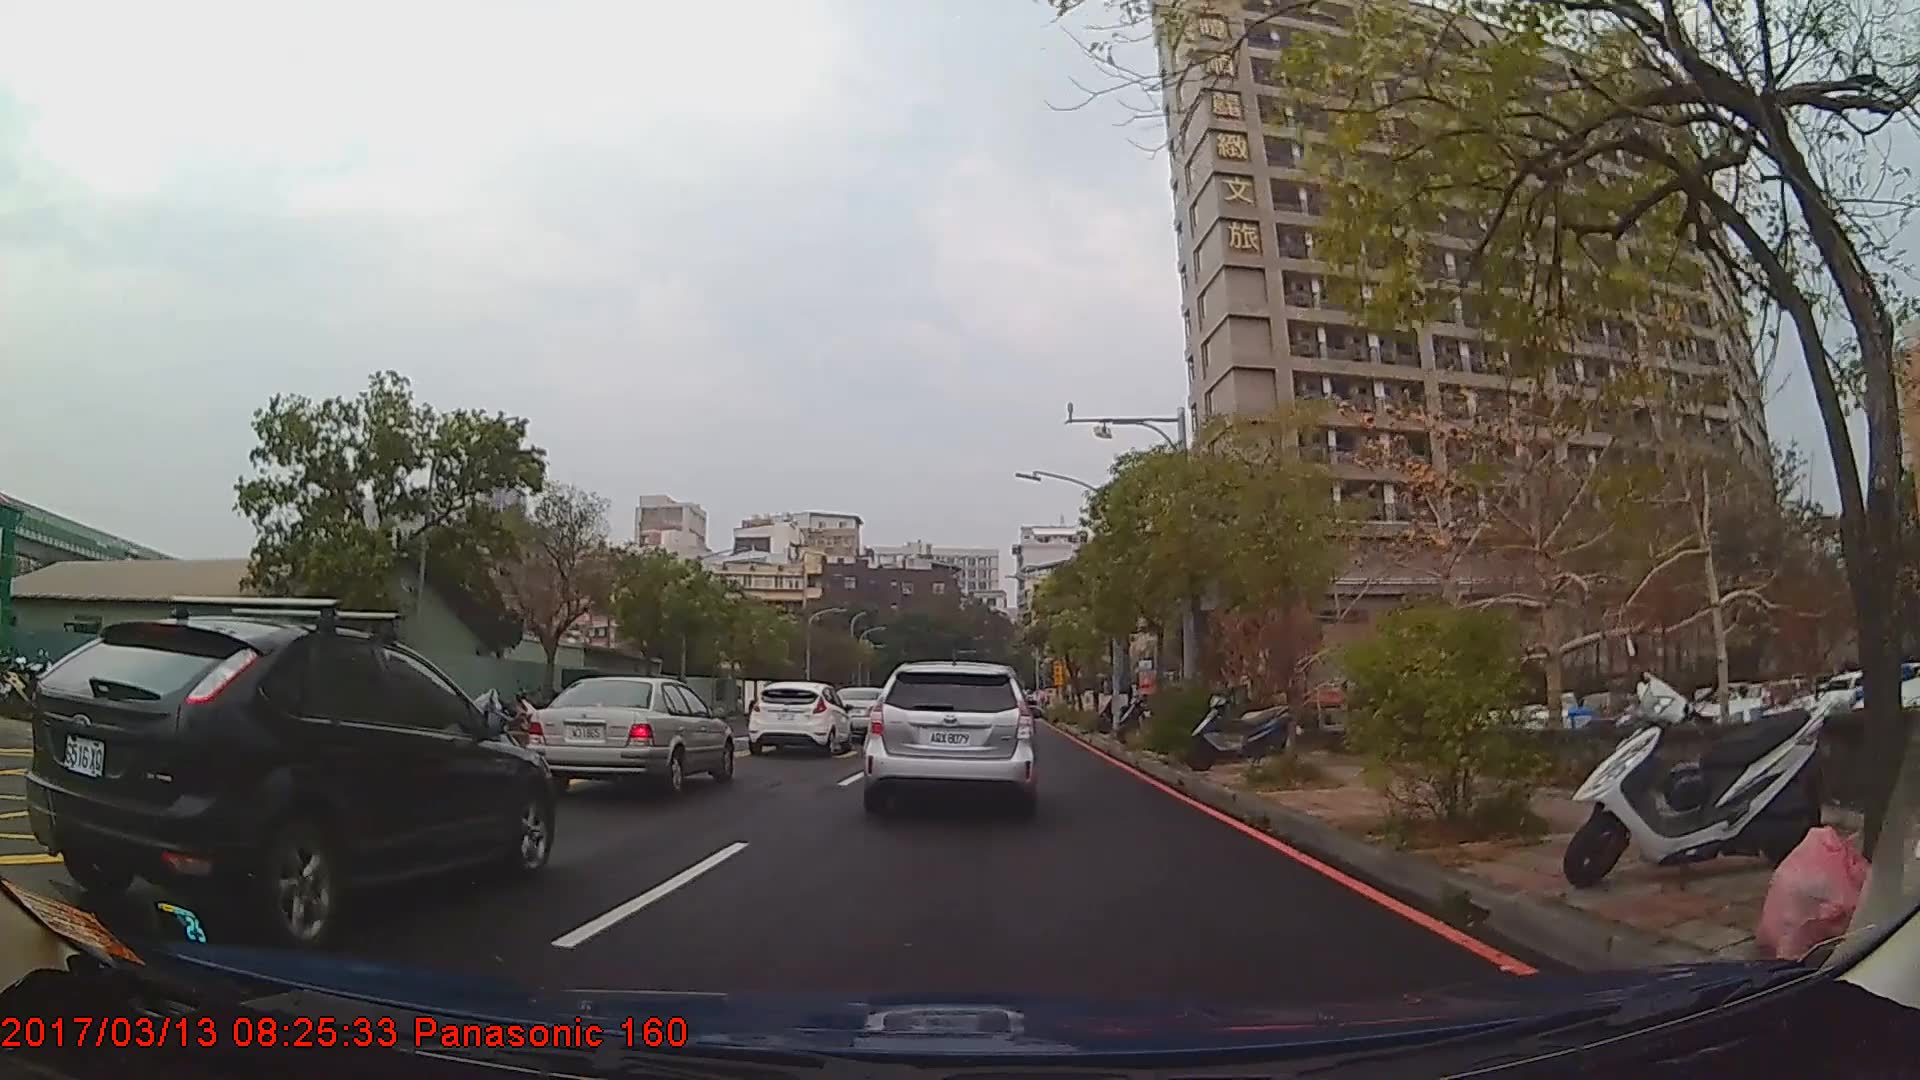vehicle: (26, 615, 554, 948), (861, 658, 1038, 814), (524, 673, 733, 794), (744, 680, 851, 756)
